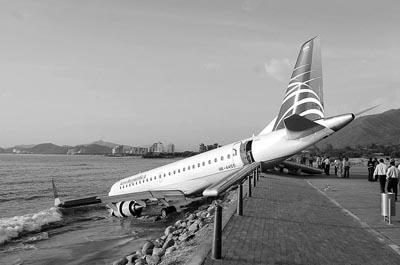airplane: (108, 40, 350, 205)
